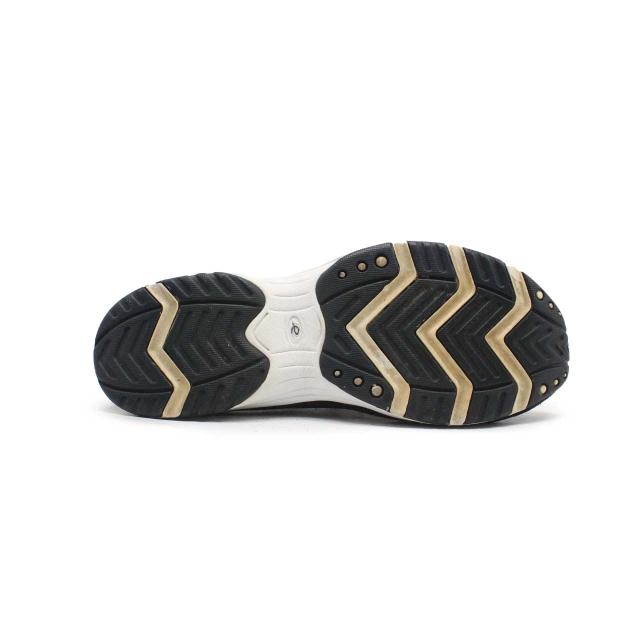outersole: (95, 242, 568, 433)
